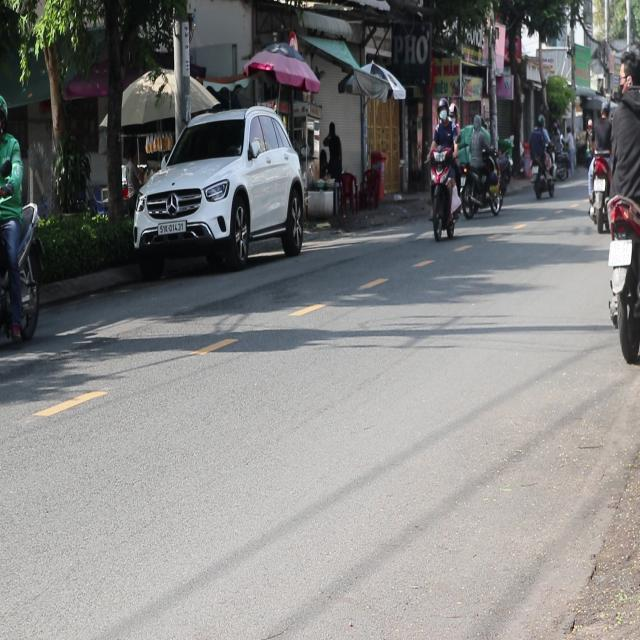licenseplate: (0, 89, 45, 353), (603, 42, 640, 360)
motorcyclist: (618, 45, 639, 94)
nohelmet: (608, 240, 632, 264)
